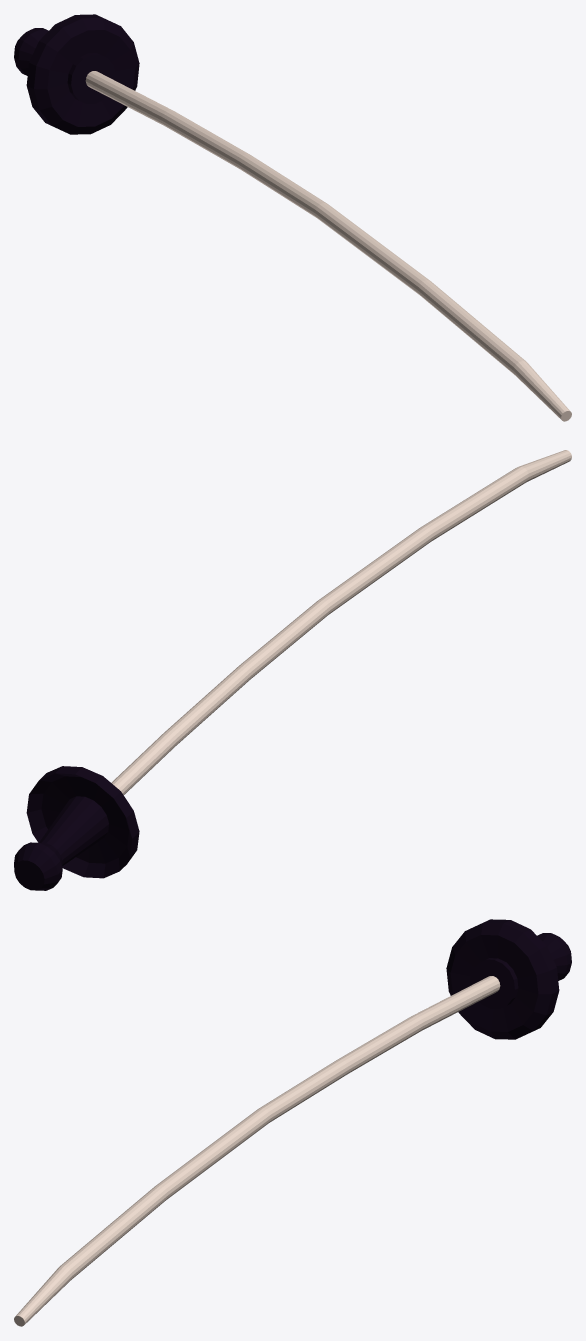
File: Sword.fbx
The picture shows the model from 3 angles, top to bottom: view 1: azimuth 30°, elevation 25°; view 2: azimuth 150°, elevation 25°; view 3: azimuth 330°, elevation 25°; orthographic projection.
Visible parts, largest first — view 1: Cylinder; view 2: Cylinder; view 3: Cylinder.
Part boxes in pixels (bbox=[...]): Cylinder: bbox=[14, 14, 571, 421]; Cylinder: bbox=[14, 450, 571, 890]; Cylinder: bbox=[14, 919, 571, 1326].
Bounding box in the file's own units: 33.08 × 33.31 × 292.
